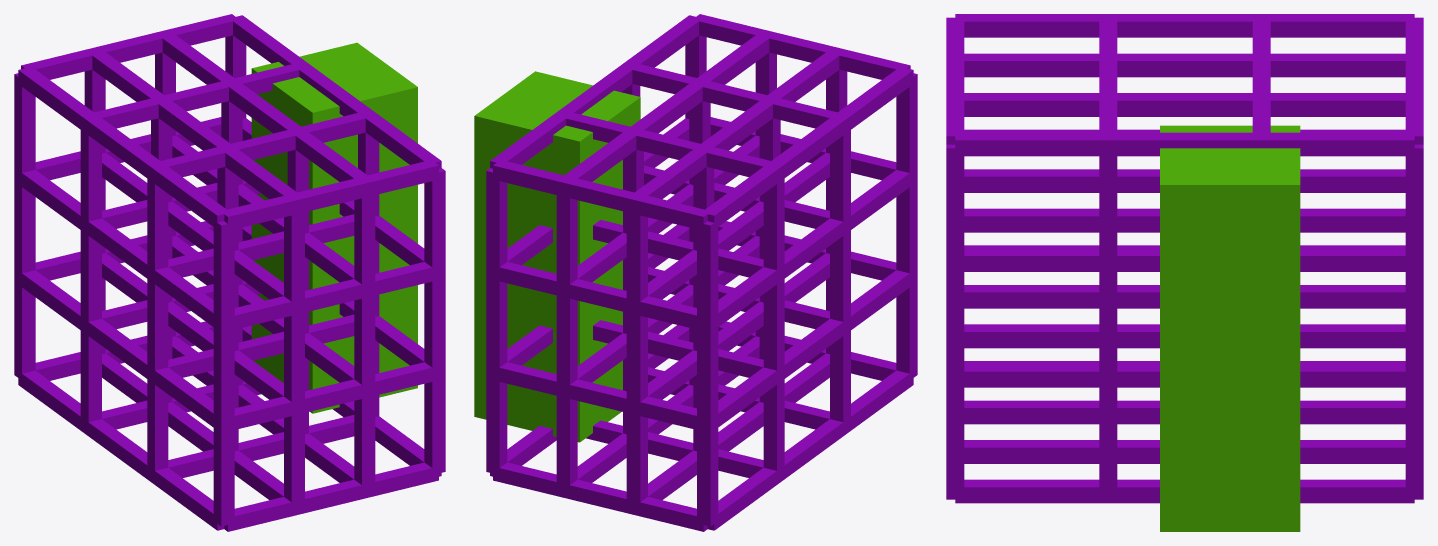
Rendered from folie_tag_043.glb.
3 renders of one model, left to right at view 1: azimuth 30°, elevation 25°; view 2: azimuth 150°, elevation 25°; view 3: azimuth 270°, elevation 25°, orthographic. The views are drawn at different scales.
Visible parts, largest first — view 1: folie_tag_043_00_cage, folie_tag_043_core; view 2: folie_tag_043_00_cage, folie_tag_043_core; view 3: folie_tag_043_00_cage, folie_tag_043_core.
Part boxes in pixels (bbox=[...]): folie_tag_043_00_cage: bbox=[14, 14, 445, 531]; folie_tag_043_core: bbox=[251, 42, 417, 413]; folie_tag_043_00_cage: bbox=[486, 14, 917, 531]; folie_tag_043_core: bbox=[474, 71, 640, 442]; folie_tag_043_00_cage: bbox=[946, 14, 1423, 503]; folie_tag_043_core: bbox=[1160, 125, 1300, 531].
Bounding box in the file's own units: 3.02 × 3.14 × 3.74.
